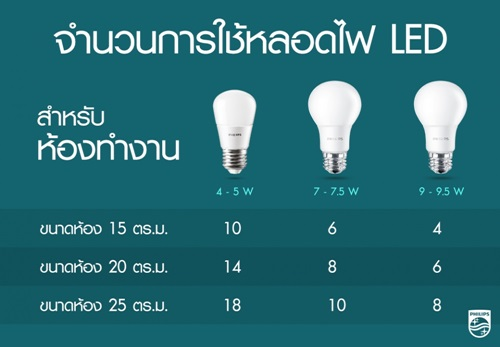Light_bulb: (291, 68, 374, 183), (198, 84, 270, 190), (410, 71, 480, 178)
